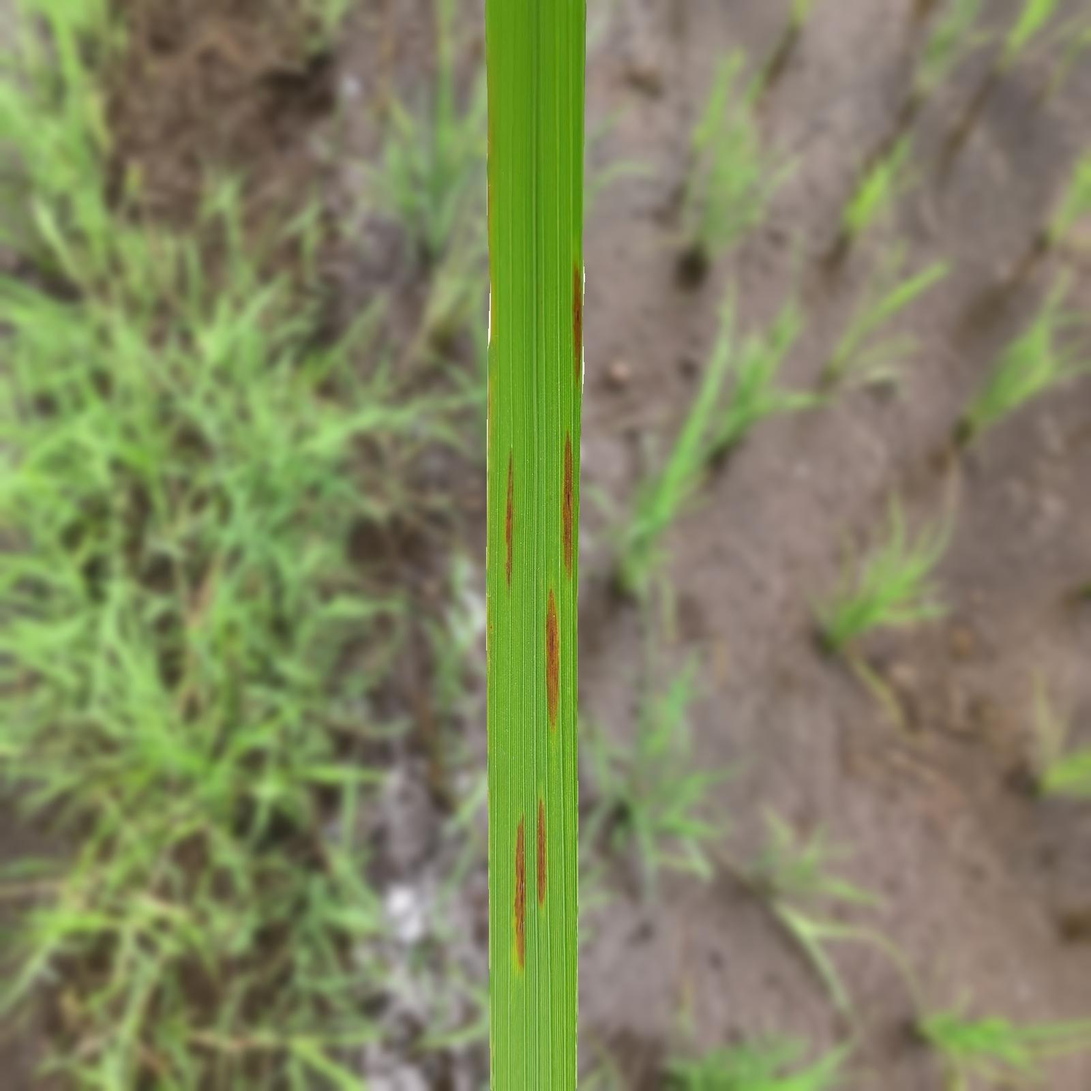LEAF: (485, 0, 586, 1090)
NBS: (546, 589, 559, 729), (515, 818, 526, 968), (563, 435, 573, 576), (505, 451, 513, 586), (573, 263, 582, 383), (537, 798, 547, 904)
